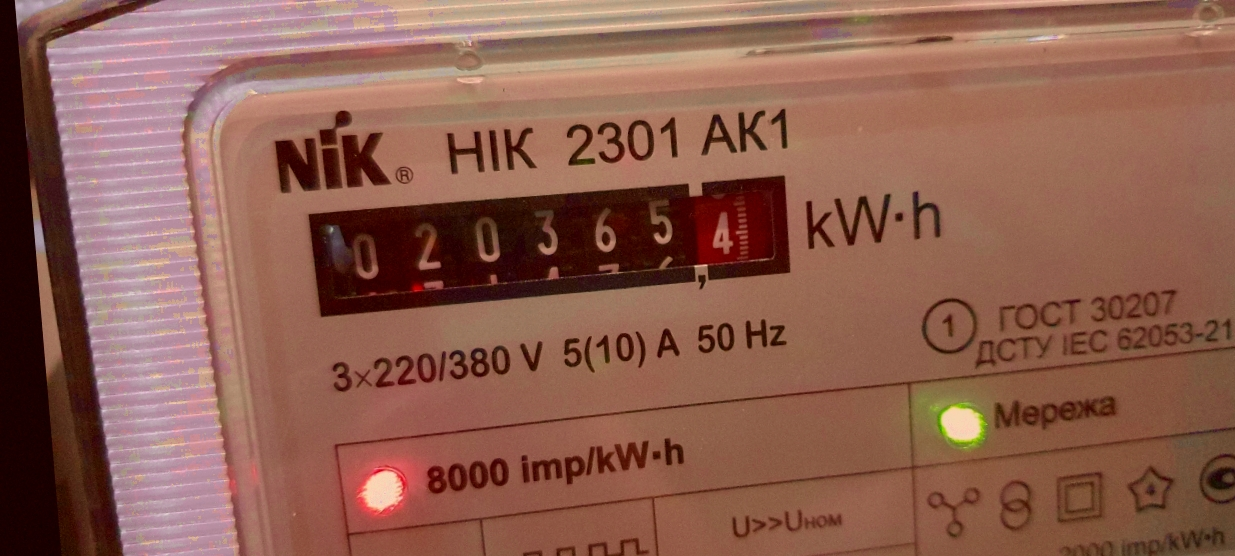0: (346, 227, 384, 284), (471, 213, 505, 265)
2: (410, 219, 444, 272)
3: (530, 206, 563, 258)
4: (707, 207, 734, 257)
5: (646, 197, 677, 246)
6: (589, 202, 619, 255)
screen: (293, 155, 810, 334)
